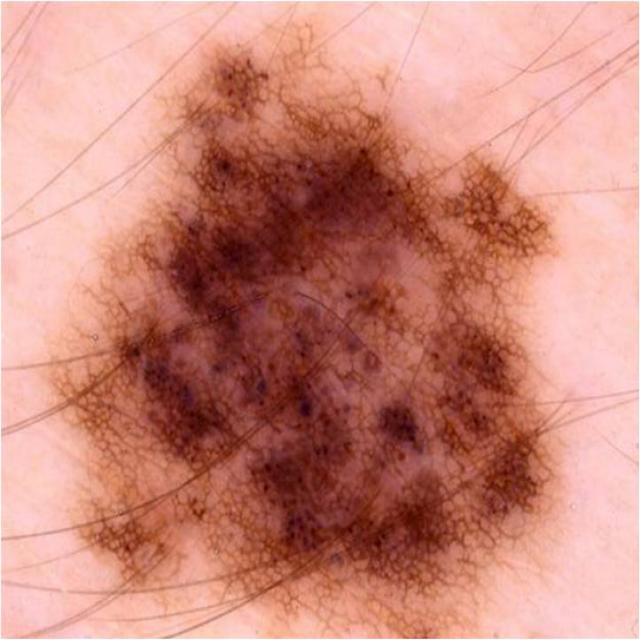Benign: (49, 36, 578, 640)
